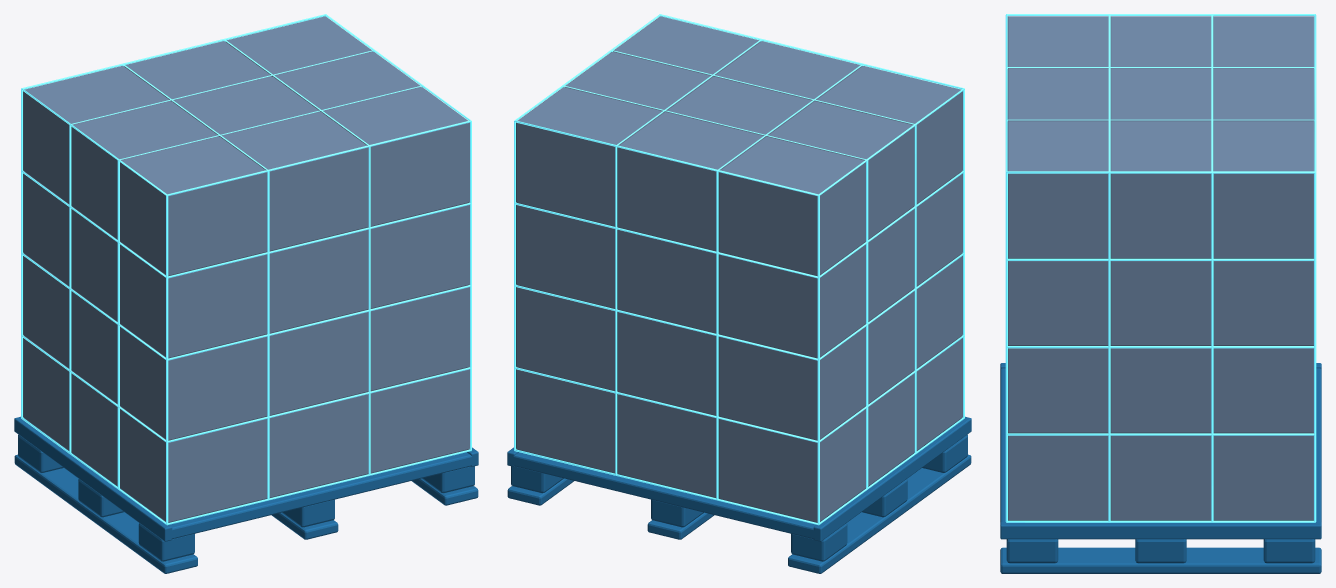
The model's file is SM_GHS_Presentation_CargoLow.fbx.
The picture shows the model from 3 angles, left to right: view 1: azimuth 30°, elevation 25°; view 2: azimuth 150°, elevation 25°; view 3: azimuth 270°, elevation 25°; orthographic projection. The views are drawn at different scales.
Visible parts, largest first — view 1: SM_GHS_Presentation_CargoLow; view 2: SM_GHS_Presentation_CargoLow; view 3: SM_GHS_Presentation_CargoLow.
Boxes of the visible parts, x1=… form: SM_GHS_Presentation_CargoLow: x1=14, y1=14, x2=478, y2=573; SM_GHS_Presentation_CargoLow: x1=507, y1=14, x2=971, y2=573; SM_GHS_Presentation_CargoLow: x1=1000, y1=14, x2=1321, y2=573.
Bounding box in the file's own units: 120 × 100 × 138.
